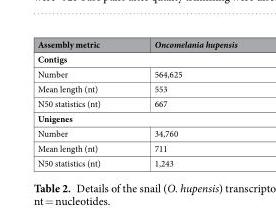table: (36, 37, 236, 168)
table column: (126, 37, 236, 168), (36, 37, 126, 168)
table column header: (36, 37, 236, 51)
table projected row header: (36, 51, 236, 66), (36, 110, 236, 125)
table row: (36, 51, 236, 66), (36, 66, 236, 81), (36, 95, 236, 110), (36, 110, 236, 125), (36, 125, 236, 140), (36, 140, 236, 155), (36, 37, 236, 51), (36, 81, 236, 95), (36, 155, 236, 168)
